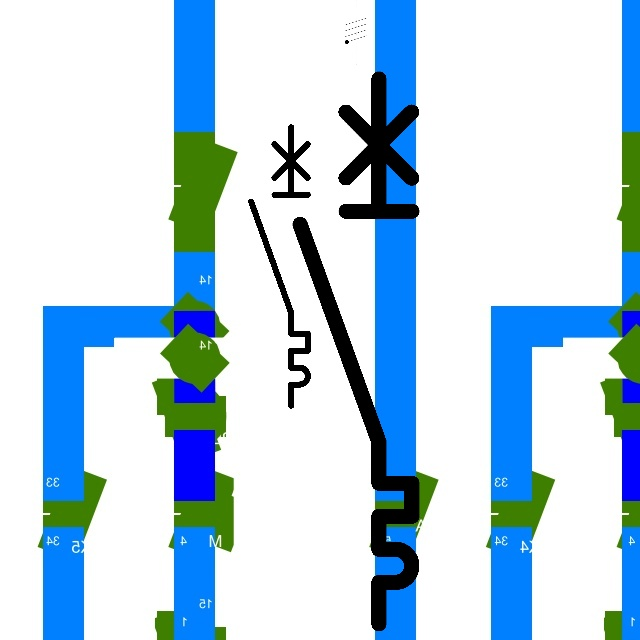interruptor_termomagnetico: (286, 64, 426, 638), (244, 120, 315, 413)
